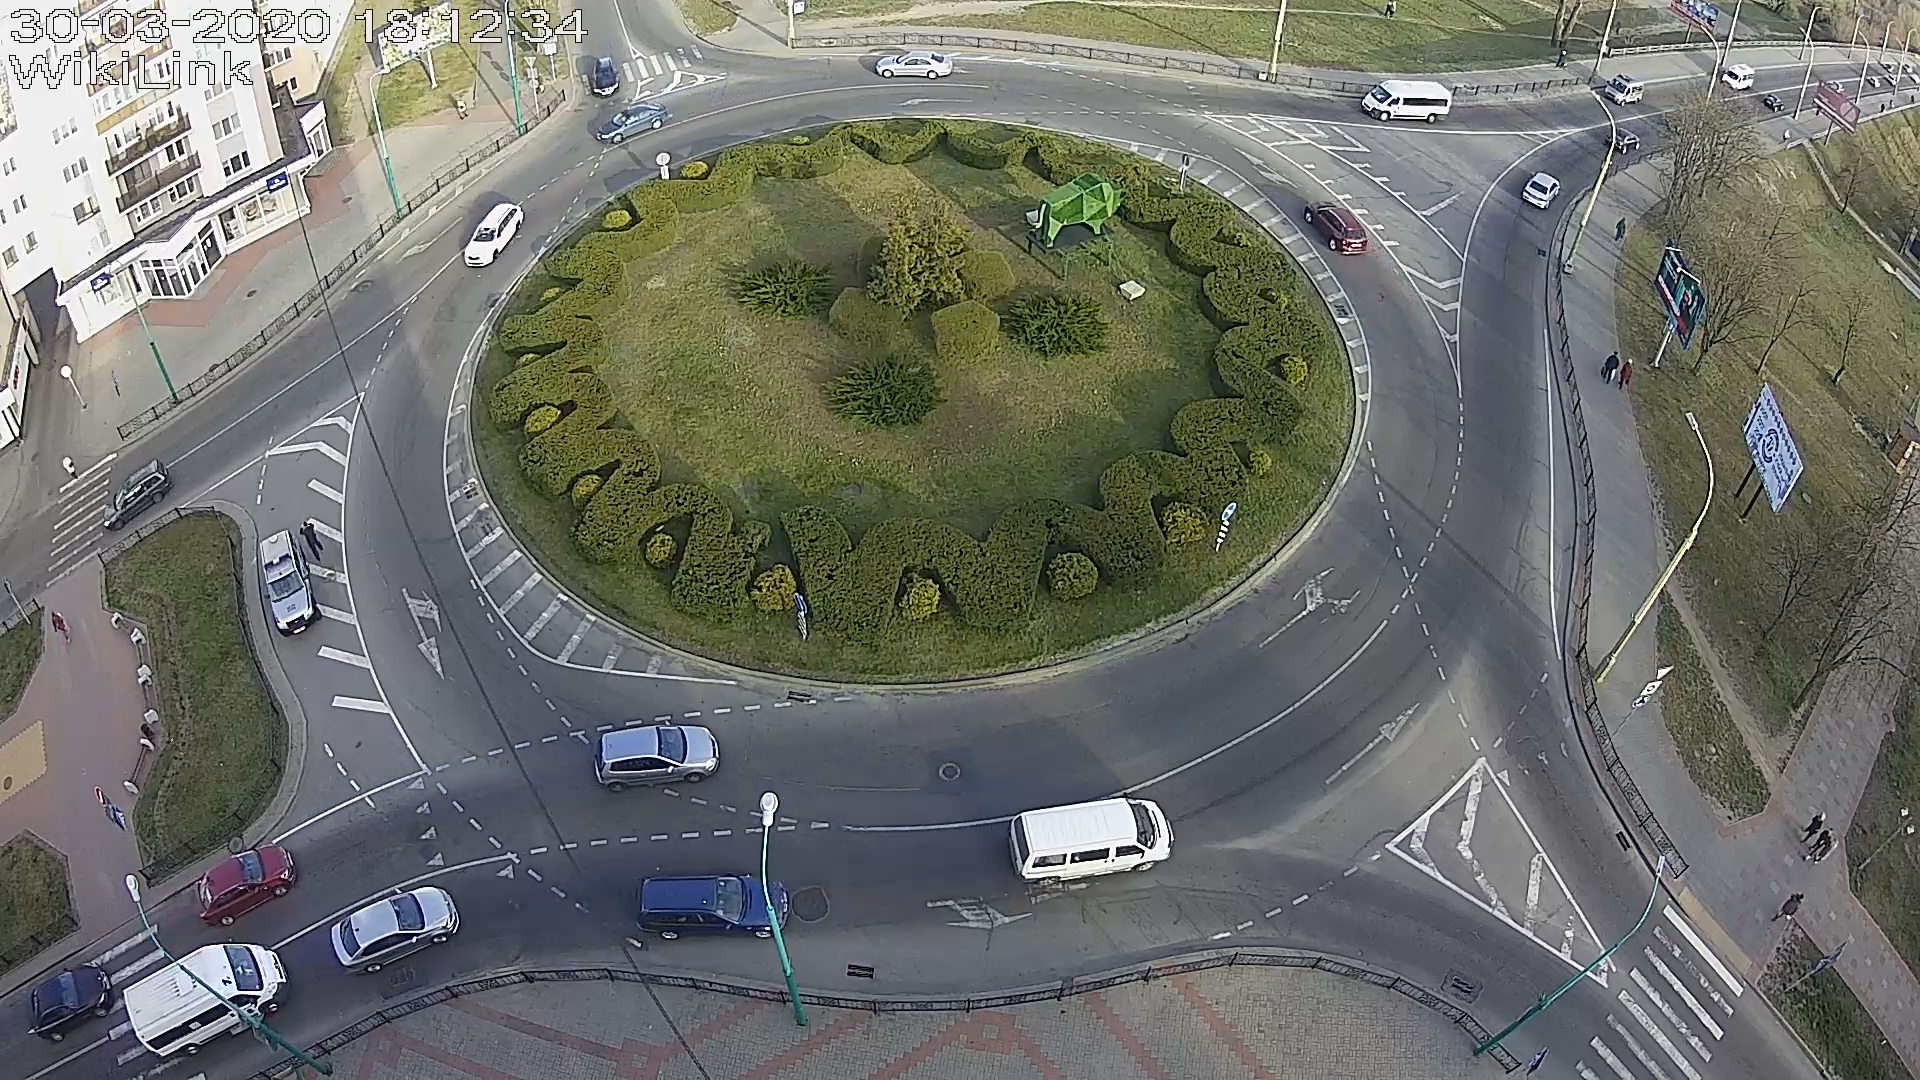car: (123, 942, 291, 1059), (1007, 793, 1175, 887), (328, 887, 460, 975), (637, 873, 790, 939), (593, 720, 719, 793), (194, 843, 297, 927), (22, 960, 113, 1043), (260, 529, 322, 637), (102, 458, 174, 533), (1361, 80, 1453, 124), (464, 203, 525, 268), (1304, 200, 1367, 256), (597, 102, 669, 144), (876, 49, 955, 80), (1522, 171, 1561, 208), (1604, 73, 1644, 107), (591, 55, 620, 98), (1604, 128, 1640, 154)
